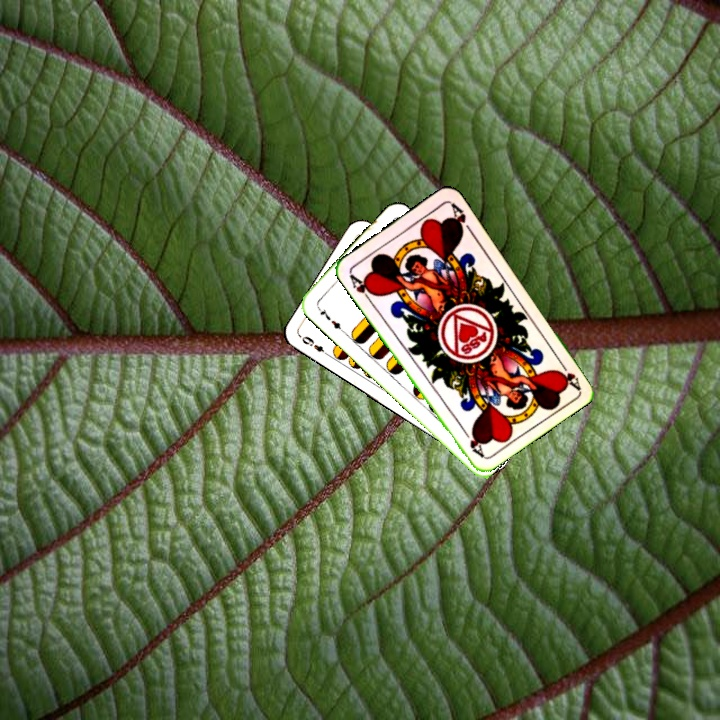E7: (313, 303, 346, 334)
E9: (298, 332, 332, 359)
HA: (345, 270, 379, 305), (554, 354, 583, 391)
